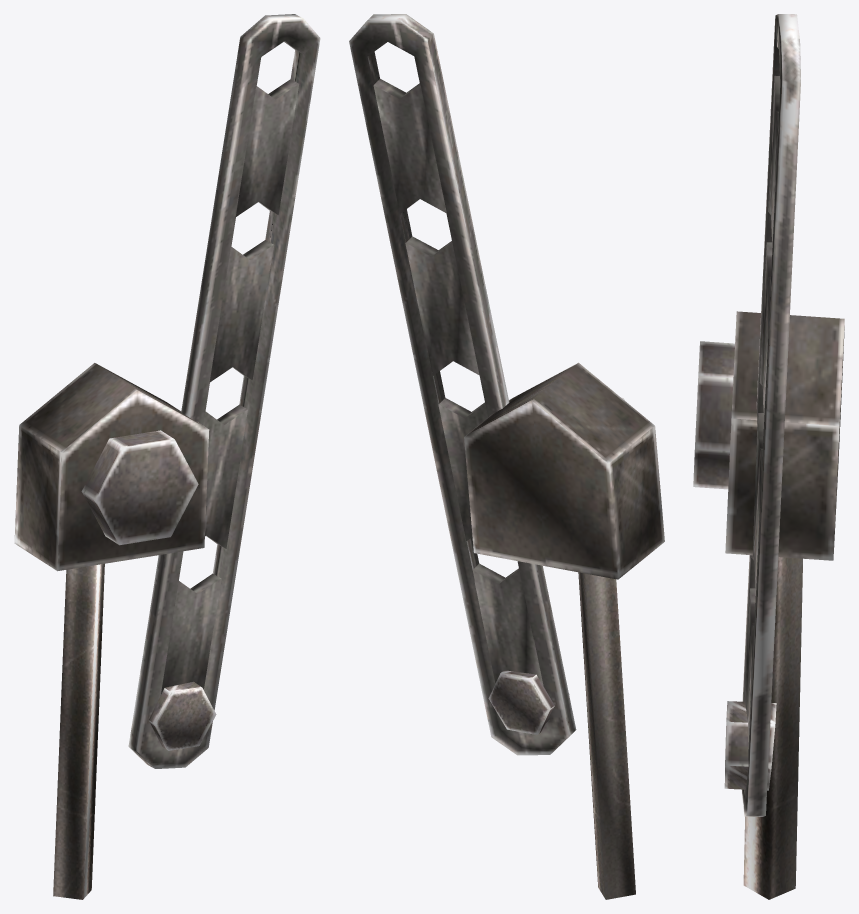
The model's file is Robot01.RightKnee3.fbx.
The picture shows the model from 3 angles, left to right: view 1: azimuth 30°, elevation 25°; view 2: azimuth 150°, elevation 25°; view 3: azimuth 270°, elevation 25°; orthographic projection. The views are drawn at different scales.
Visible parts, largest first — view 1: Robot.015; view 2: Robot.015; view 3: Robot.015.
Boxes of the visible parts, left/top/right/bottom form: Robot.015: left=14, top=14, right=320, bottom=899; Robot.015: left=349, top=14, right=664, bottom=899; Robot.015: left=693, top=14, right=844, bottom=899.
Bounding box in the file's own units: 36.11 × 99.65 × 13.74.
